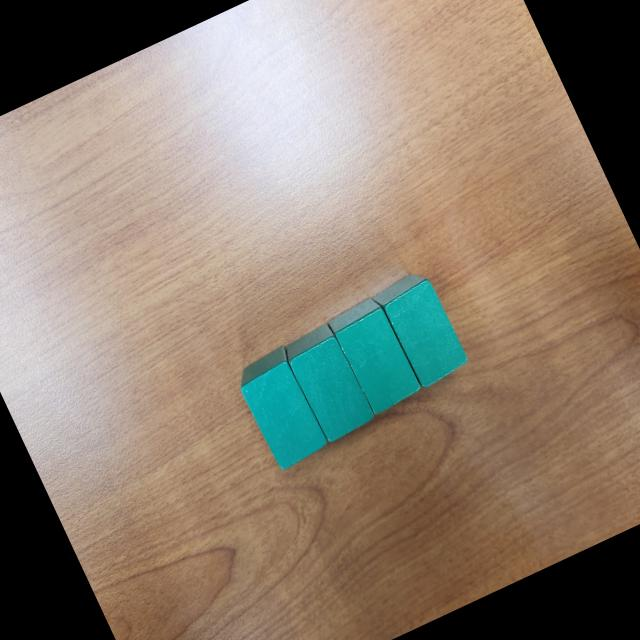green: (368, 266, 472, 394), (230, 344, 333, 472), (325, 292, 425, 418), (280, 320, 378, 444)
